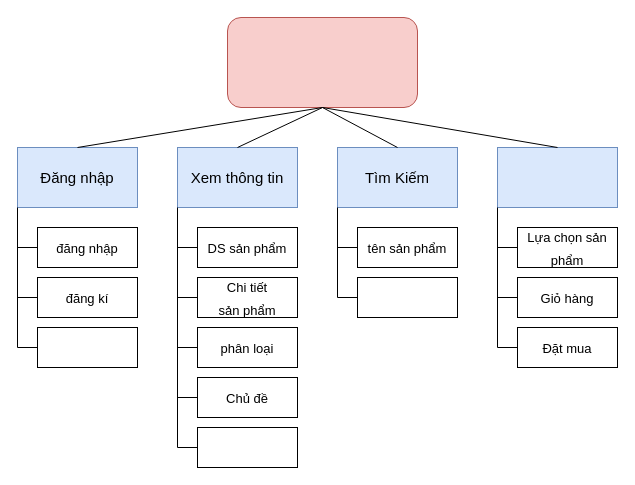
The diagram is 635 pixels wide and 485 high, and some of its shapes have lost their labels. Here are the shapes that lost their labels. From the top down, the centre of each, then its label:
point 322,62: Khách hàng
point 557,177: Đặt hàng
point 407,297: Giá sản phẩm
point 87,347: đổi mật khẩu
point 247,447: thông tin web
